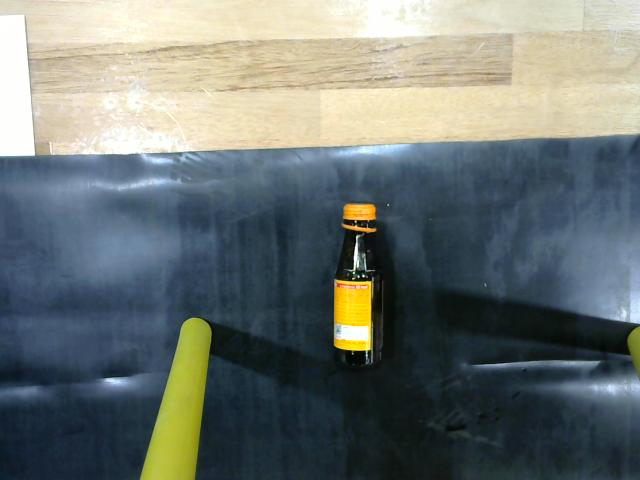glass: (326, 198, 393, 377)
